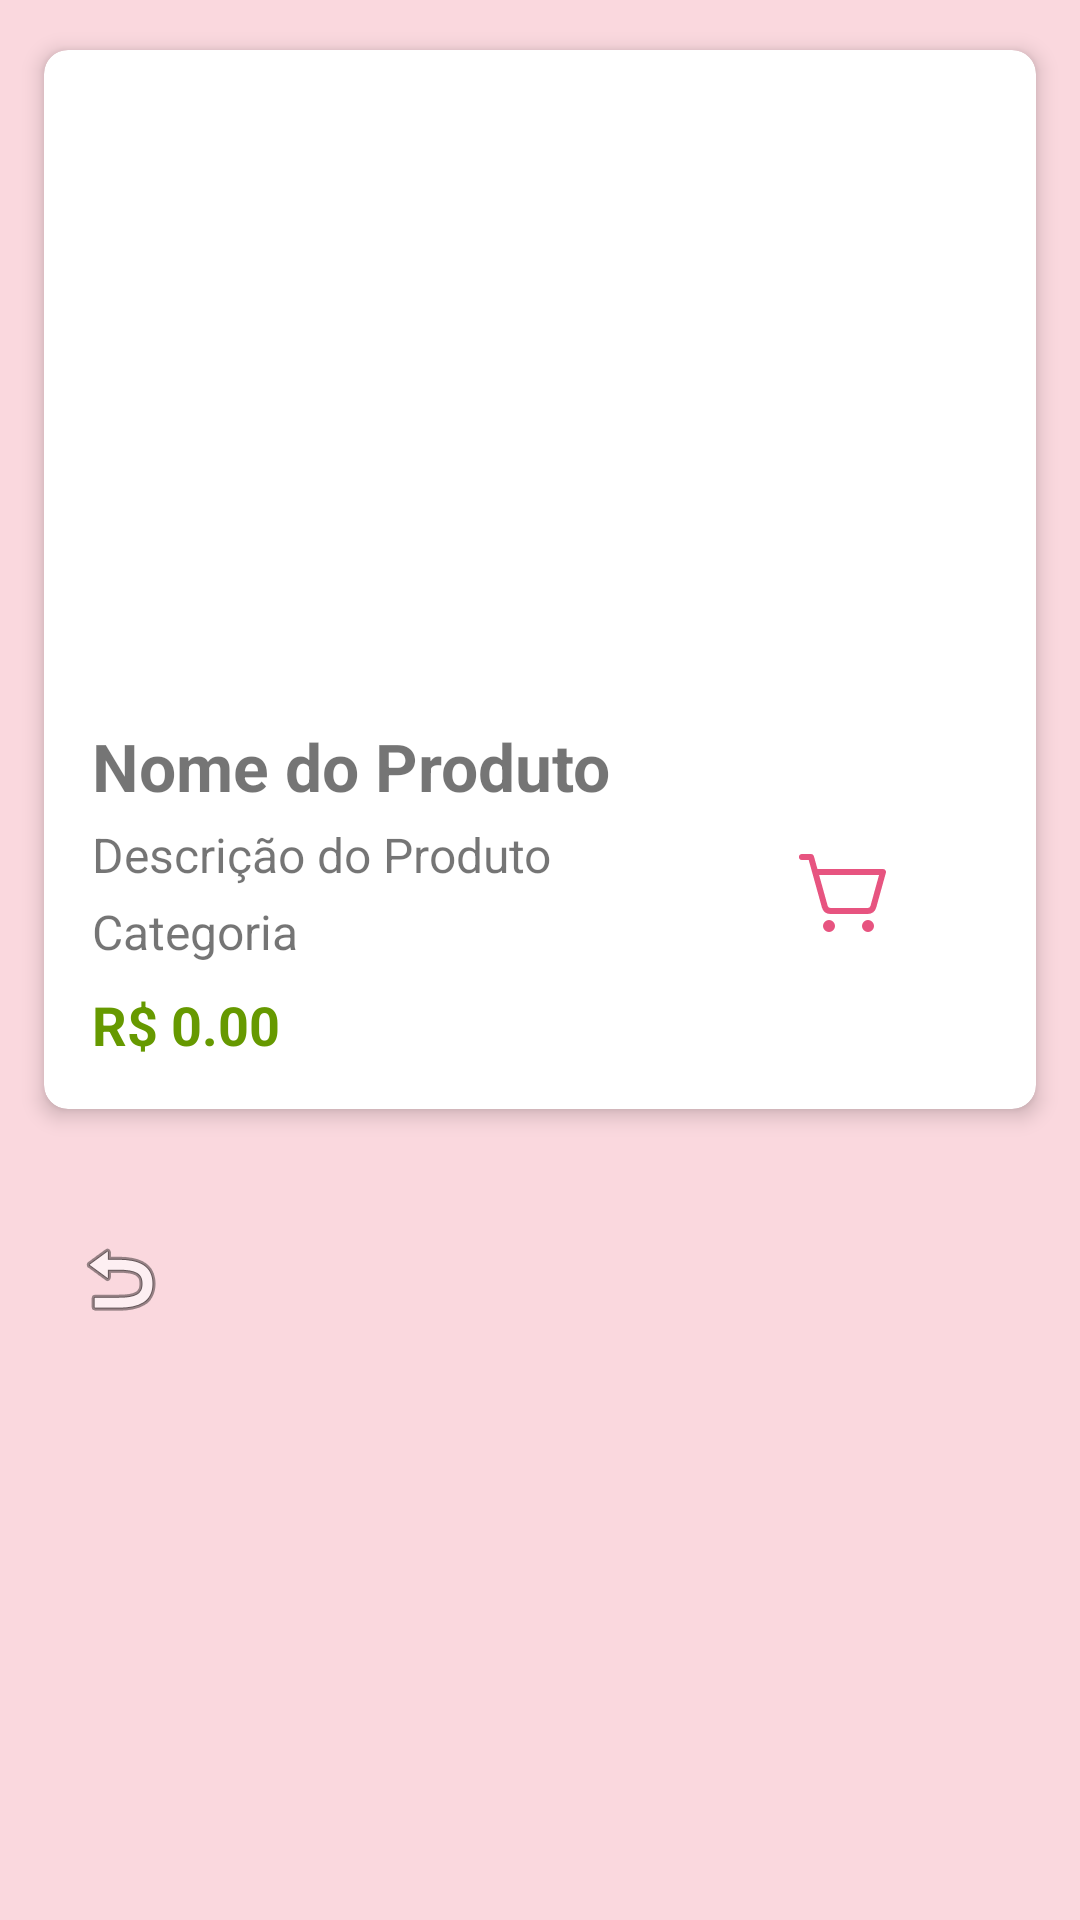

Icon click points for this 1080×1920 phone screenshot, format [x,y]:
Adicionar ao Carrinho: [842,893]
